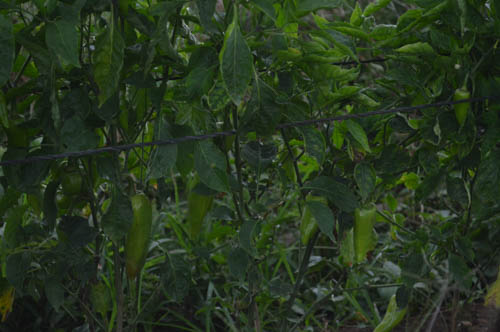ChiliPepper: (124, 193, 152, 278), (187, 176, 214, 233), (299, 196, 325, 241), (352, 208, 375, 255)
